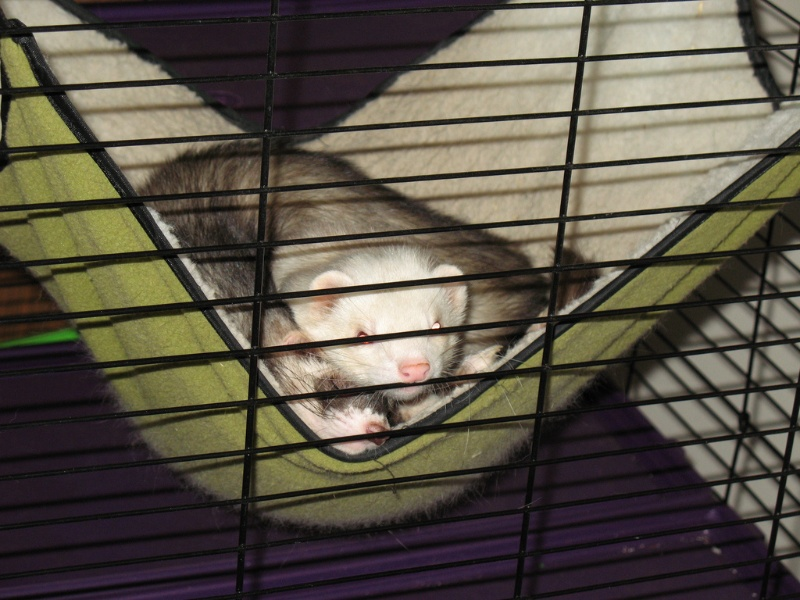minkish: (133, 147, 419, 463), (253, 141, 503, 404)
